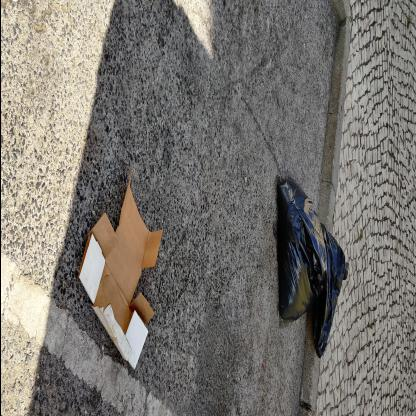karton: (76, 169, 162, 370)
plastik: (275, 174, 348, 358)
